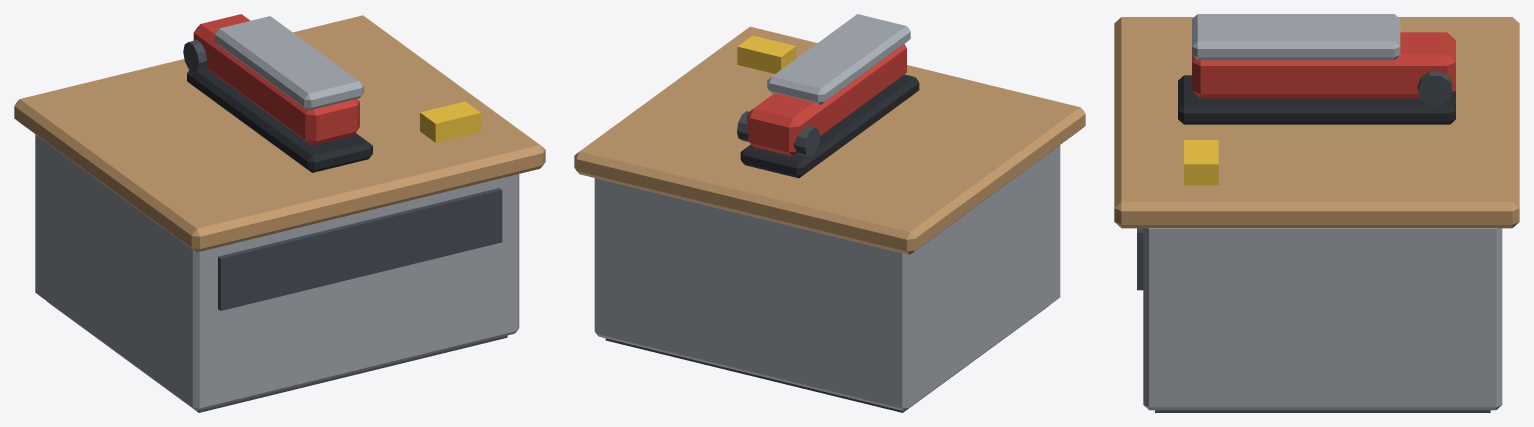
File: artillery_2.glb
3 renders of one model, left to right at view 1: azimuth 30°, elevation 25°; view 2: azimuth 150°, elevation 25°; view 3: azimuth 270°, elevation 25°, orthographic. The views are drawn at different scales.
Parts seen in each view (by area): view 1: artillery_2_mesh_Desk, artillery_2_mesh; view 2: artillery_2_mesh_Desk, artillery_2_mesh; view 3: artillery_2_mesh_Desk, artillery_2_mesh.
Boxes of the visible parts, x1,y1,x2,y2 form: artillery_2_mesh_Desk: (14, 15, 545, 412); artillery_2_mesh: (183, 14, 480, 172); artillery_2_mesh_Desk: (574, 26, 1085, 412); artillery_2_mesh: (737, 14, 919, 178); artillery_2_mesh_Desk: (1114, 17, 1519, 412); artillery_2_mesh: (1178, 14, 1455, 185).
Bounding box in the file's own units: 0.78 × 0.576 × 0.7.
